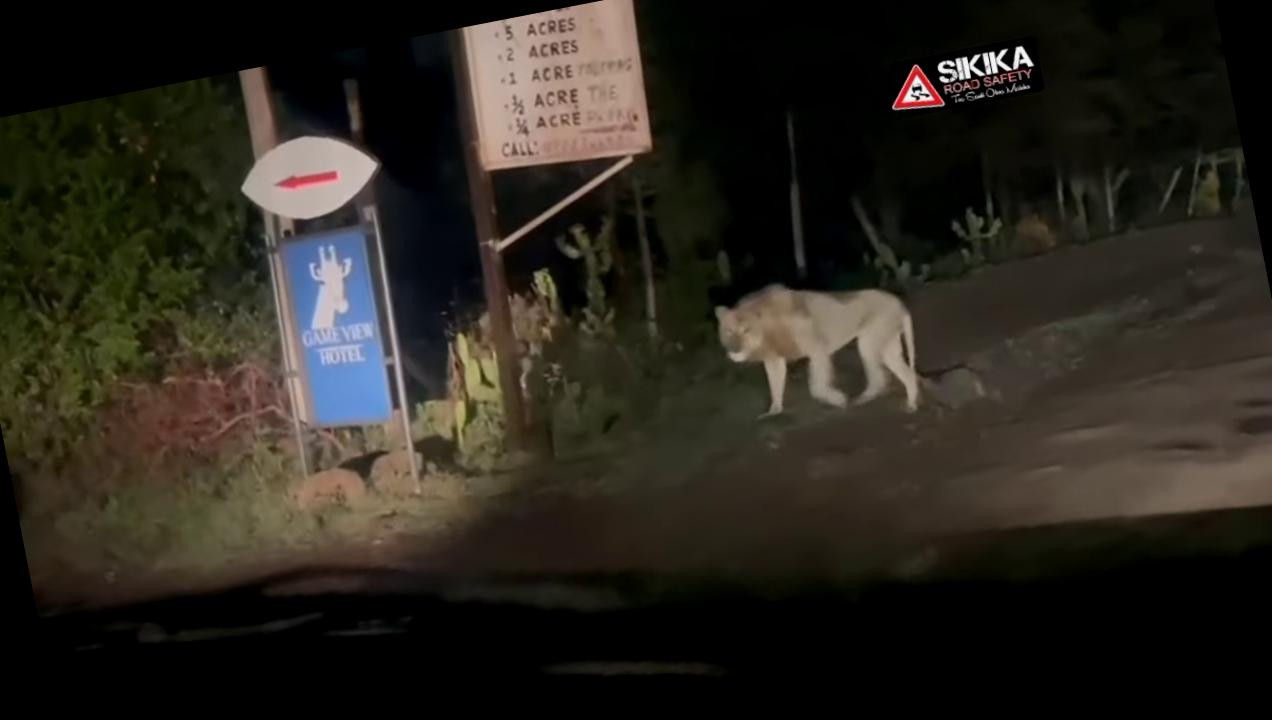lions: (697, 233, 949, 466)
